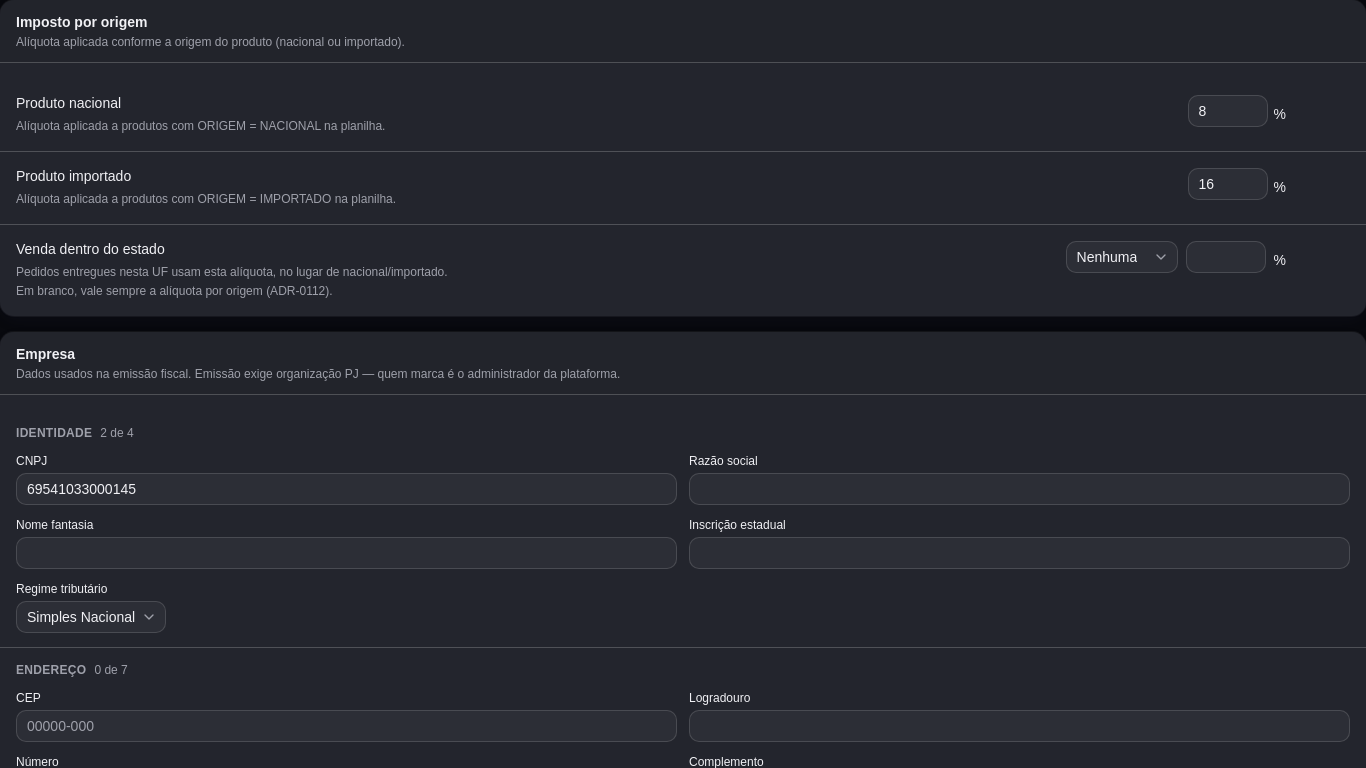
CEP preenche o endereço (ViaCEP) › CEP inexistente: CEP salvo + aviso para preencher à mão
The width and height of the screenshot is (1366, 768).
In the field labelled "CEP": (346, 726) 16,710 -> 677,742, type "99999999"
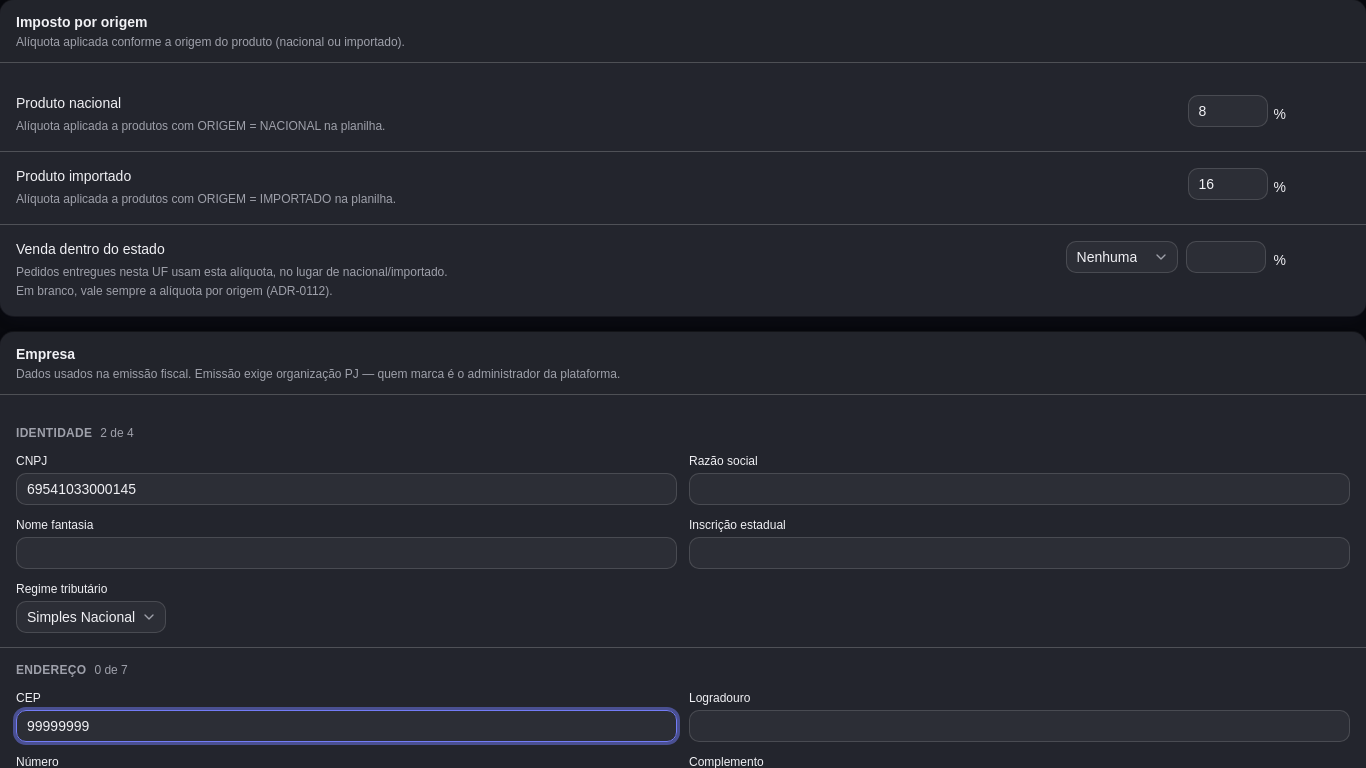
Press Tab
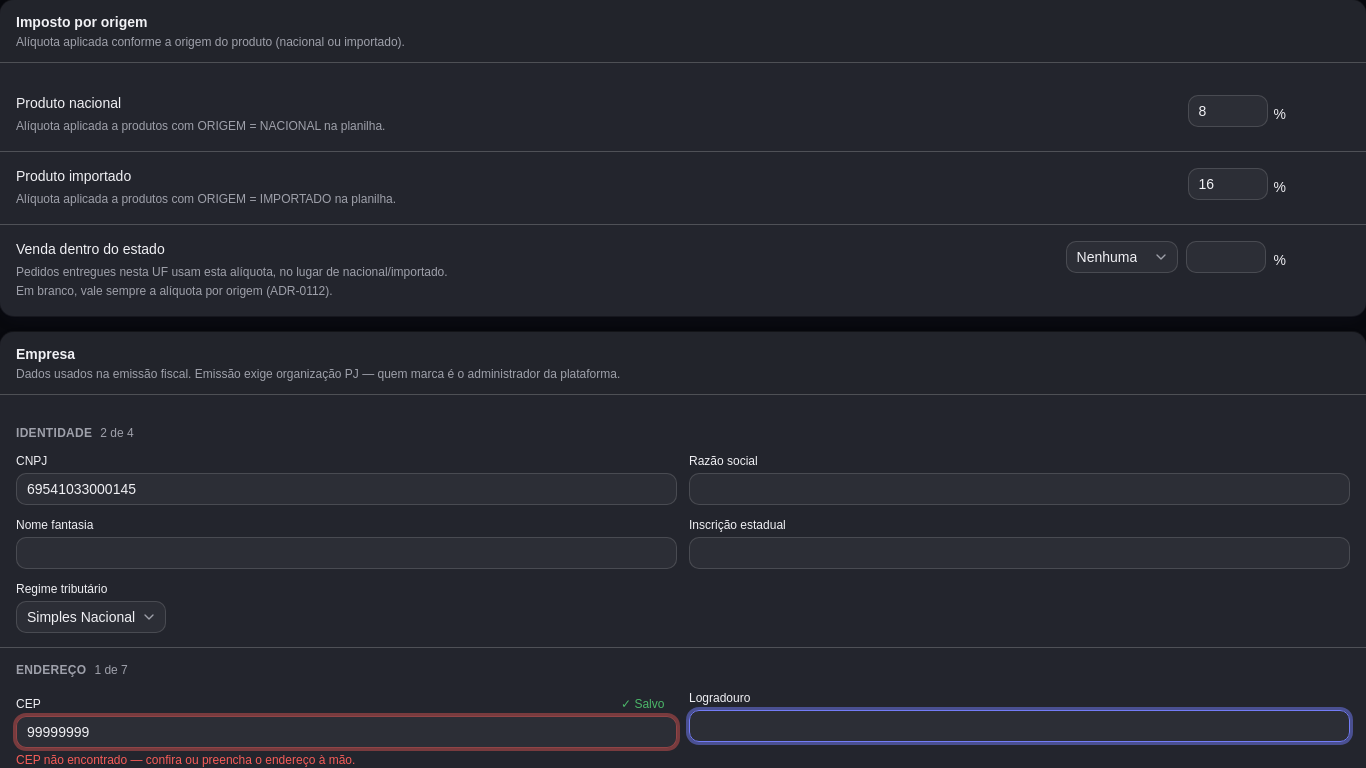
Result: the text "CEP não encontrado — confira ou preencha o endereço à mão." is shown at 16,753 -> 355,767
